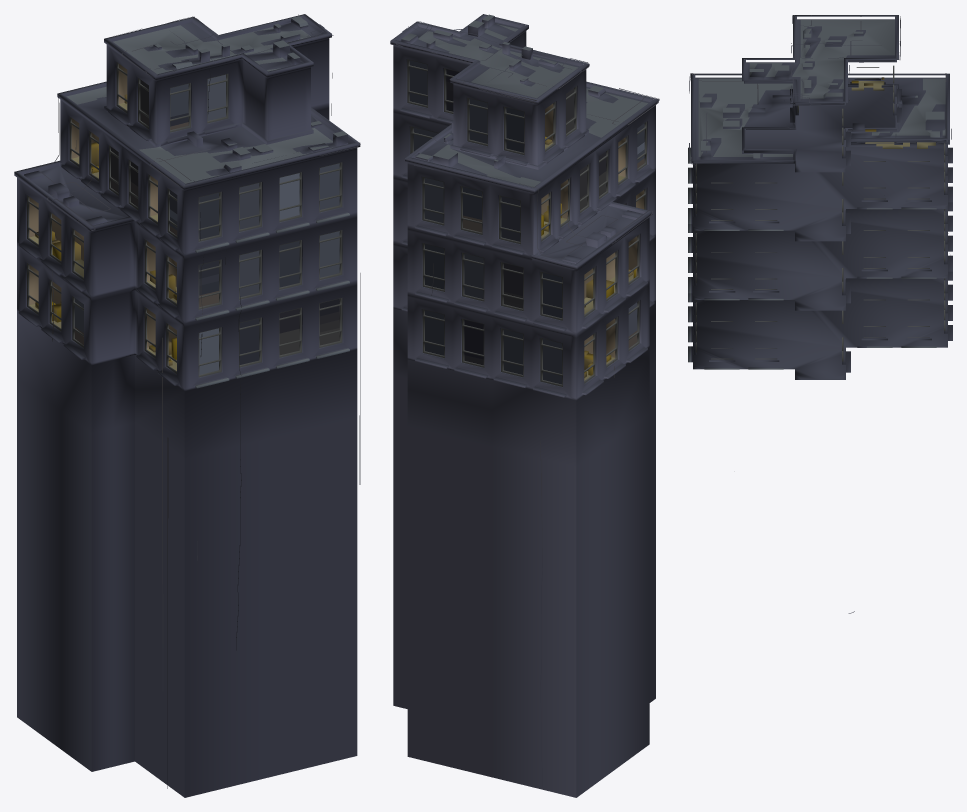
The model's file is mesh_bdg_A_10.gltf.
3 views of the same model, side by side, from view 1: azimuth 30°, elevation 25°; view 2: azimuth 150°, elevation 25°; view 3: azimuth 270°, elevation 25° (orthographic). The views are drawn at different scales.
Parts seen in each view (by area): view 1: geo1; view 2: geo1; view 3: geo1.
Boxes of the visible parts, box(x1,y1,x2,y2) form: geo1: box(14, 14, 360, 797); geo1: box(390, 14, 659, 797); geo1: box(688, 15, 952, 613).
Bounding box in the file's own units: 11.35 × 30.51 × 10.39.
